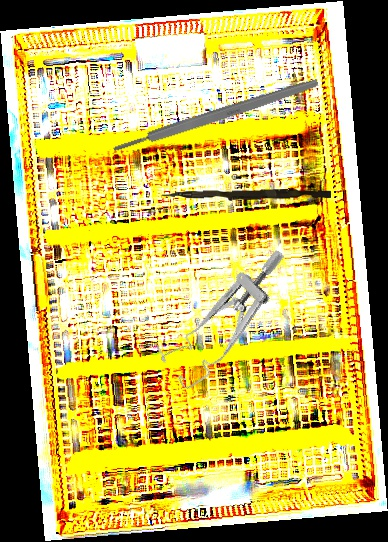Pusher: (161, 186, 332, 204)
Scalpel Handle: (111, 76, 320, 155)
Speculum: (144, 246, 317, 394)
